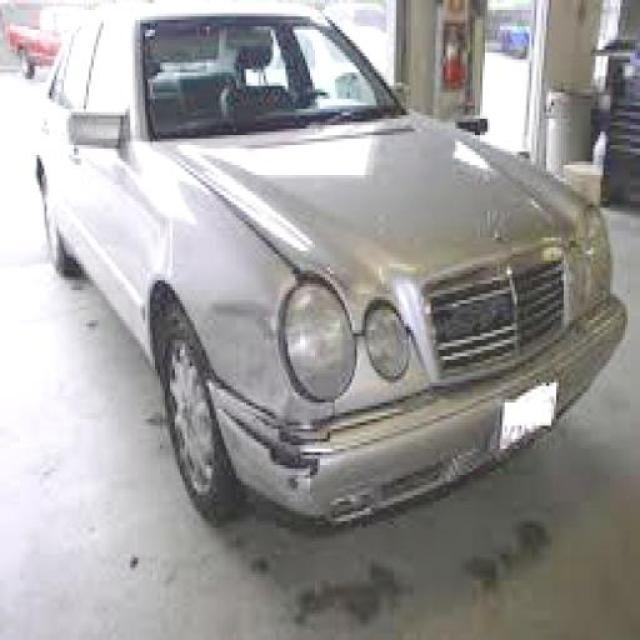car damage: (201, 300, 353, 495), (193, 166, 334, 285)
